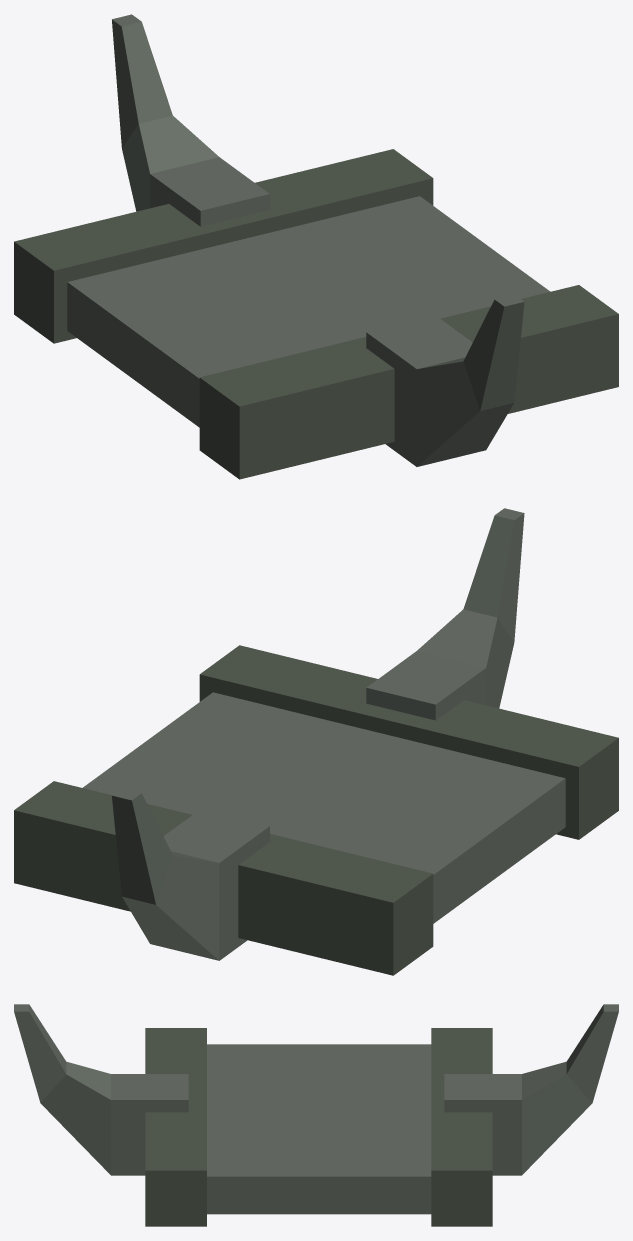
The model's file is Model_Undead_Bridge.fbx.
3 views of the same model, one above another, from view 1: azimuth 30°, elevation 25°; view 2: azimuth 150°, elevation 25°; view 3: azimuth 270°, elevation 25° (orthographic). The views are drawn at different scales.
Visible parts, largest first — view 1: Model_Frost__Bridge; view 2: Model_Frost__Bridge; view 3: Model_Frost__Bridge.
Part boxes in pixels (x1,y1,x2,y2): Model_Frost__Bridge: [14, 14, 618, 479]; Model_Frost__Bridge: [14, 508, 618, 975]; Model_Frost__Bridge: [14, 1004, 618, 1226].
Size of the model in its own units: 200 by 101 by 358.
1 material, 1 textured.
